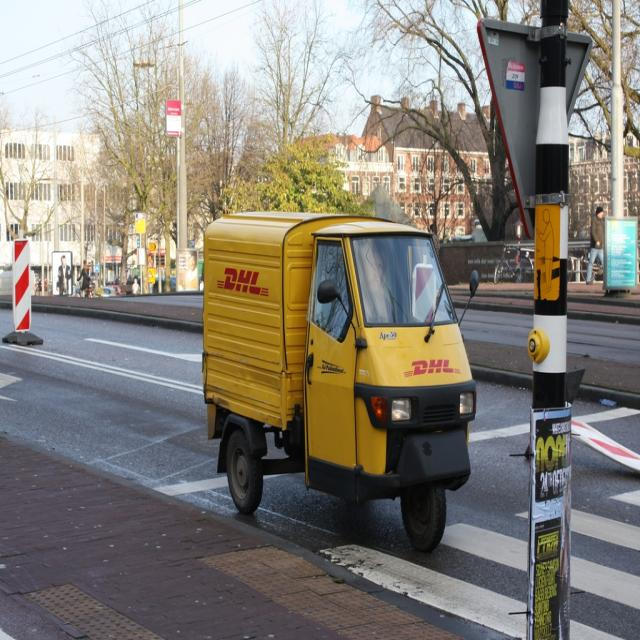dhl: (212, 263, 274, 304), (400, 356, 464, 384)
